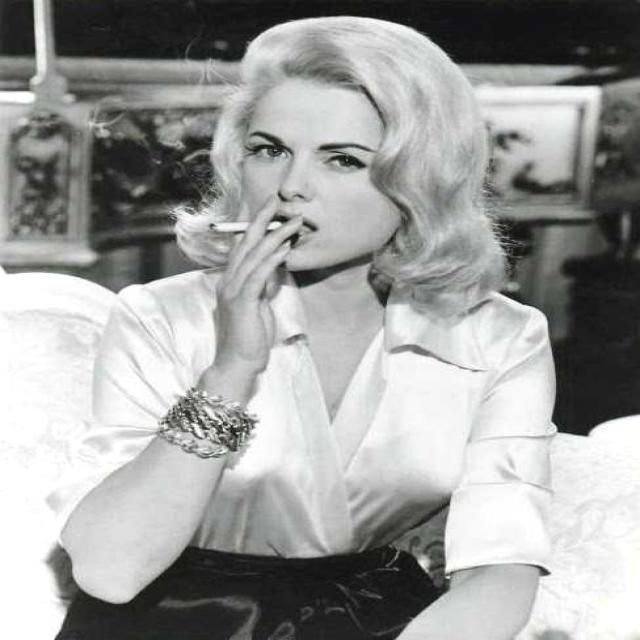Smooking: (197, 212, 287, 244)
